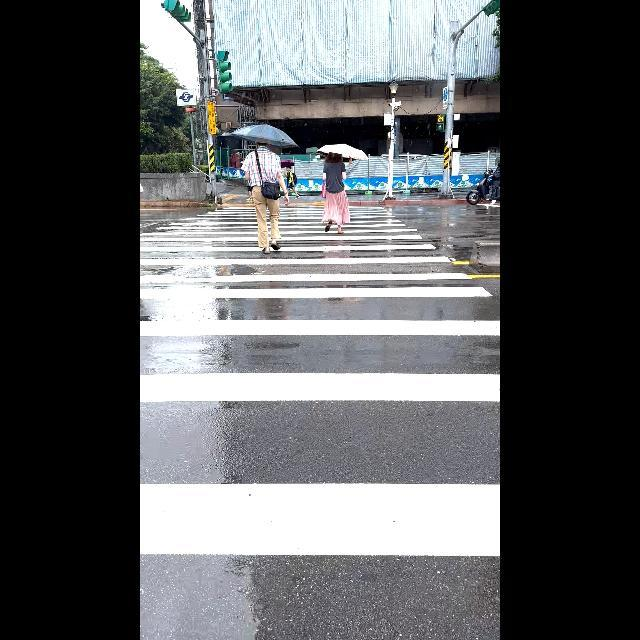sidewalk: (140, 195, 500, 640)
